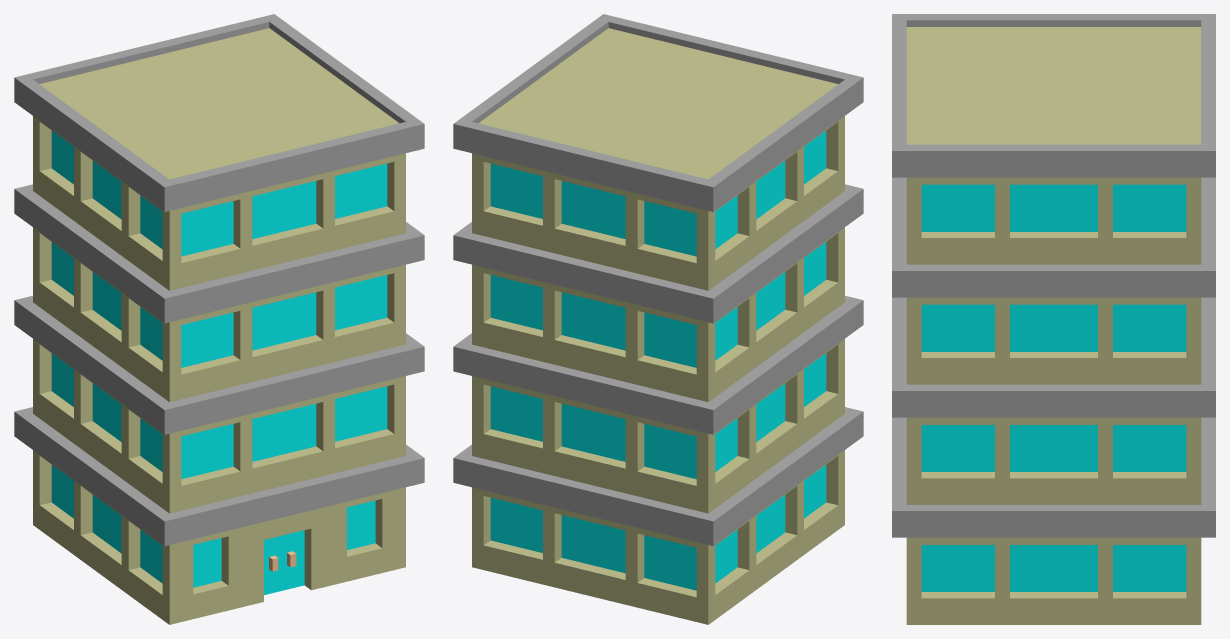
File: Building1.obj
3 views of the same model, side by side, from view 1: azimuth 30°, elevation 25°; view 2: azimuth 150°, elevation 25°; view 3: azimuth 270°, elevation 25° (orthographic). The views are drawn at different scales.
Bounding box in the file's own units: 4.4 × 7.2 × 4.4.
Materials: 1 (1 with a texture image).
